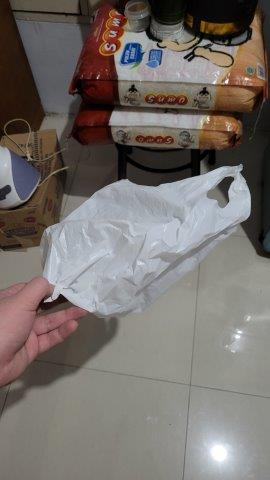plastik: (41, 165, 252, 317)
